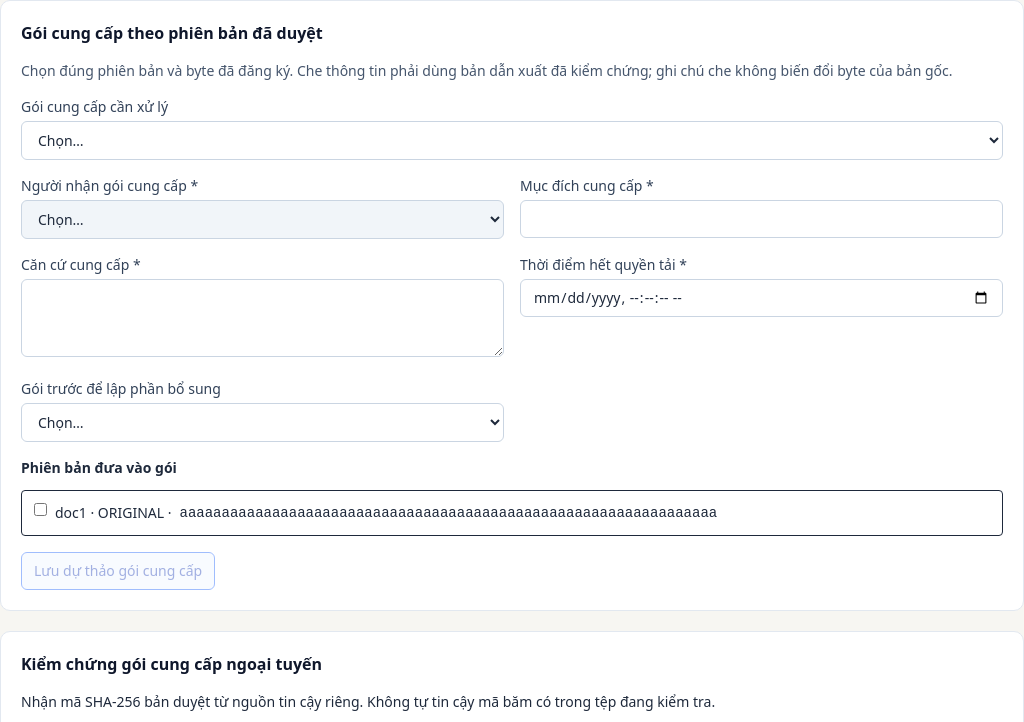
Scenario: exports the immutable approved manifest and downloads the exact-version bundle
Select "Exact-version disclosure · v2 · packet1" in the dropdown labelled "Gói cung cấp cần xử lý". click: {"x": 512, "y": 140}
box: [21, 121, 1003, 160]
(page scrolled)
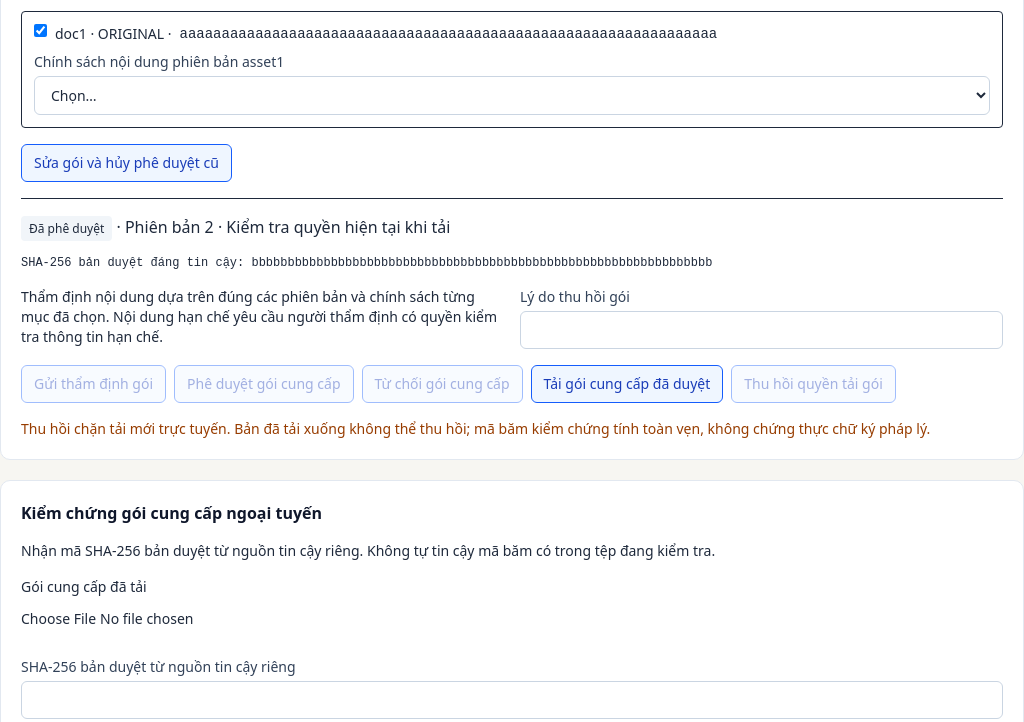
Click the button "Tải gói cung cấp đã duyệt". click: {"x": 627, "y": 384}
box: [531, 365, 723, 403]
(page scrolled)
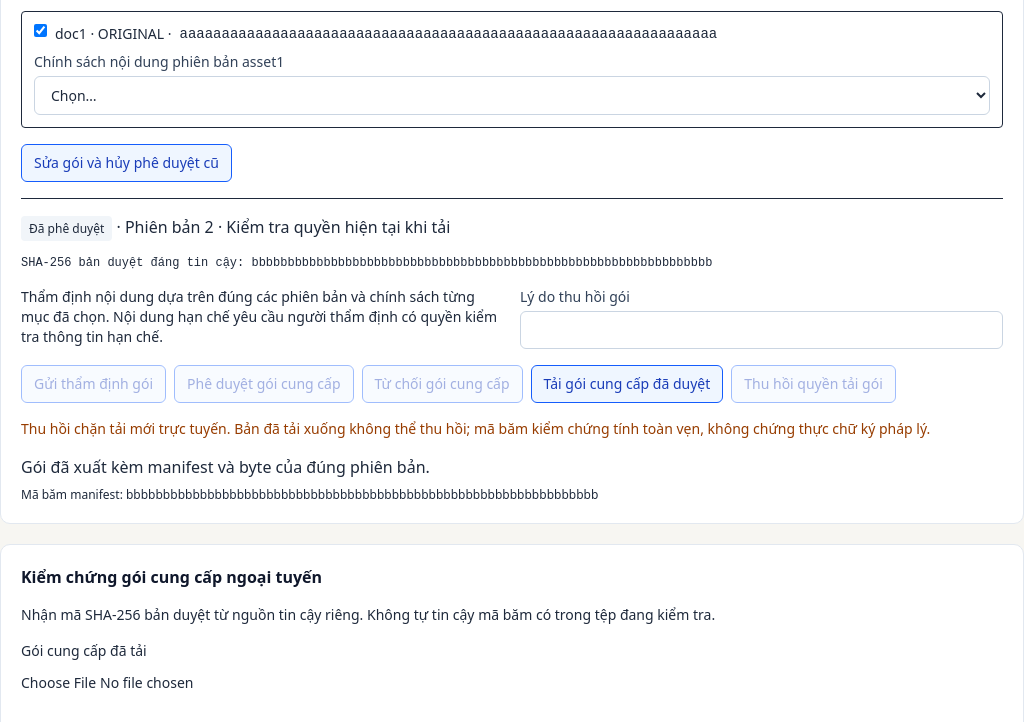
Check: the text "Gói đã xuất kèm manifest và byte của đúng phiên bản." is shown, box [21, 456, 430, 478]
